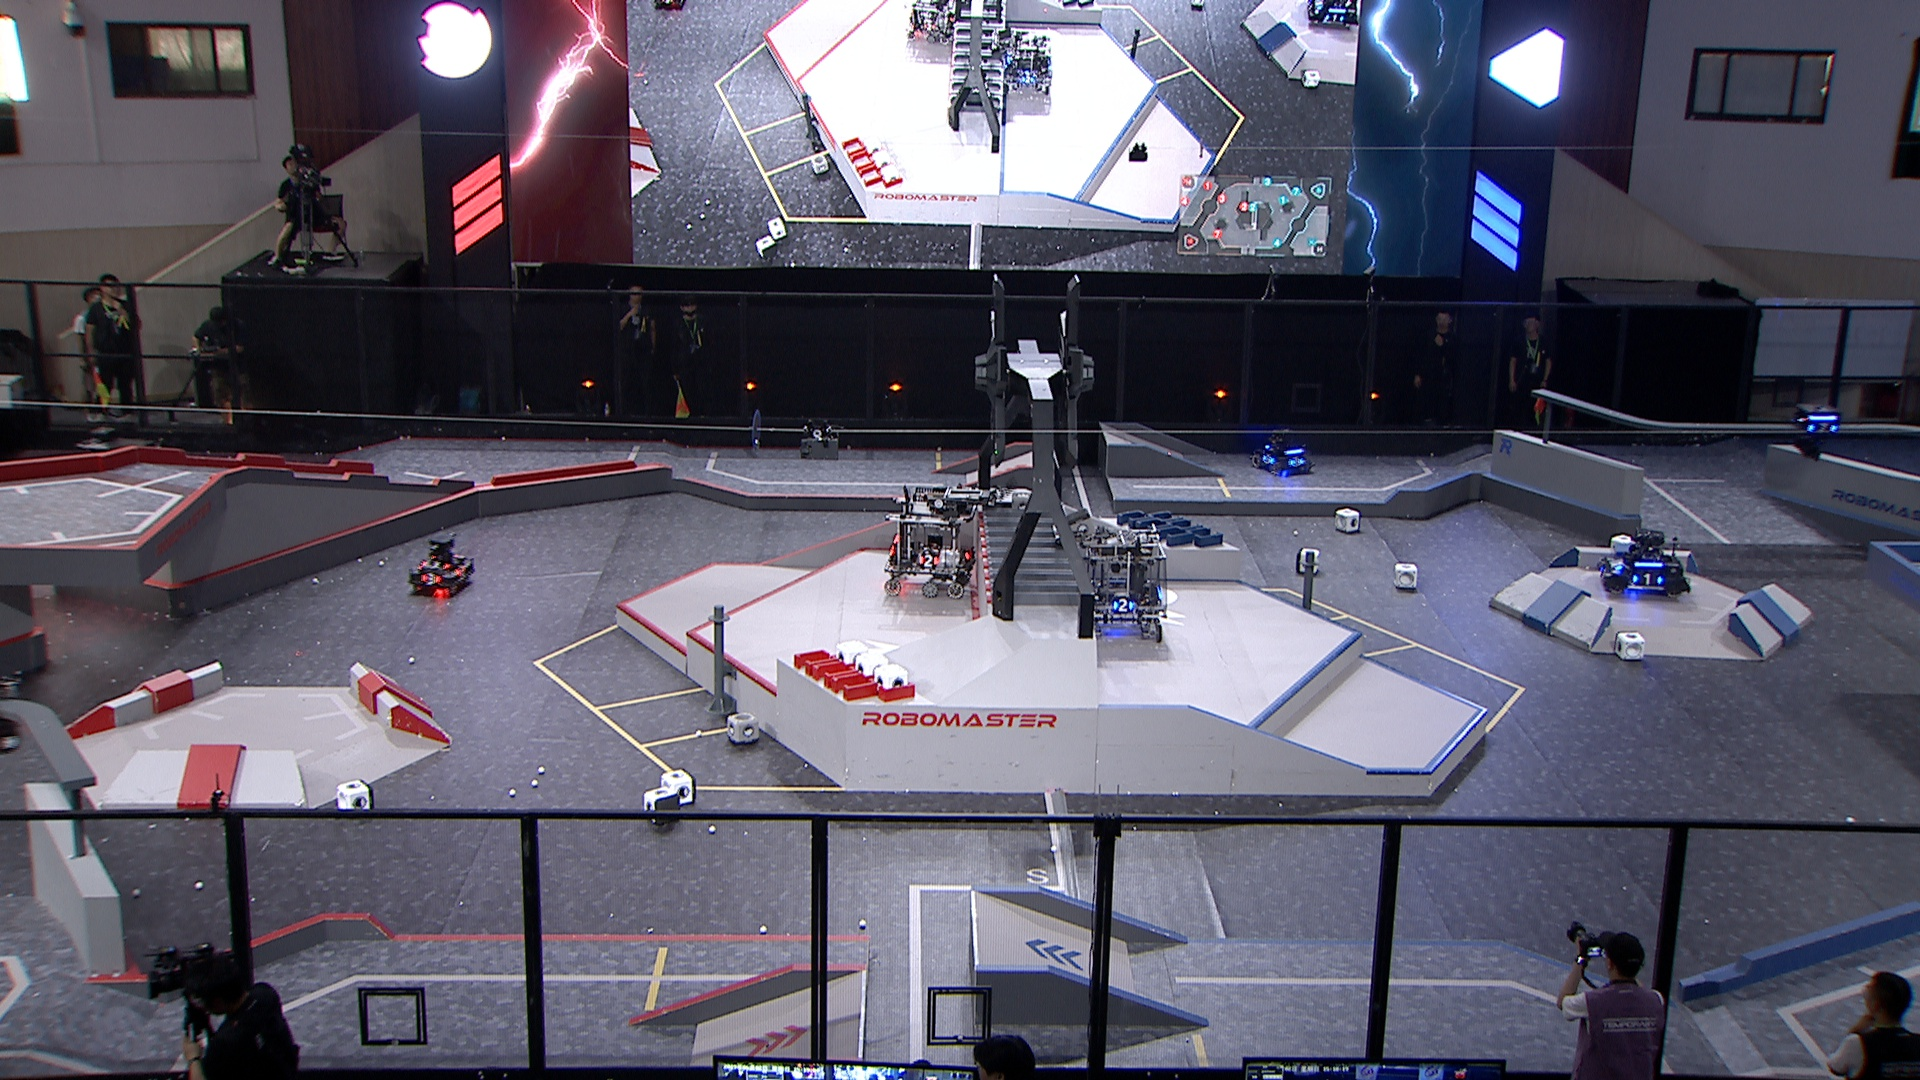armor: (1629, 571, 1662, 585), (1112, 595, 1135, 612), (418, 570, 442, 585), (916, 553, 940, 568), (1807, 422, 1840, 433), (418, 560, 448, 571), (1607, 555, 1626, 571), (1287, 458, 1305, 469), (1261, 454, 1276, 465), (1598, 564, 1610, 580), (456, 562, 467, 579)
car: (1065, 520, 1172, 645), (884, 483, 992, 599), (1596, 527, 1693, 600), (405, 531, 479, 597), (1249, 427, 1316, 476)
ignore: (1000, 26, 1055, 96)
watcher: (1788, 400, 1844, 465)
